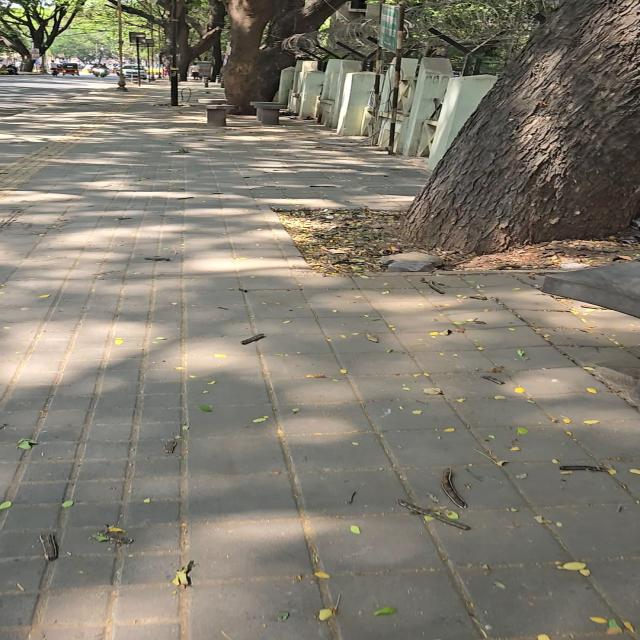auto: (542, 262, 639, 317), (542, 263, 639, 317), (250, 102, 286, 125), (206, 104, 234, 126), (198, 98, 226, 104)
